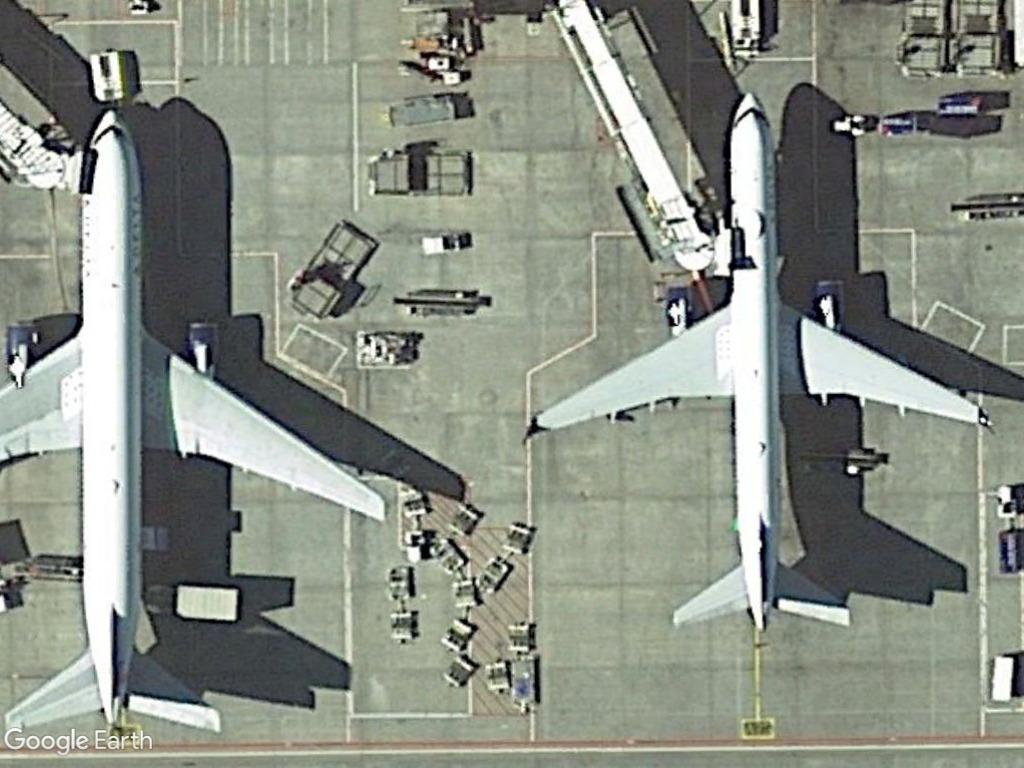airliner: (513, 83, 989, 643)
